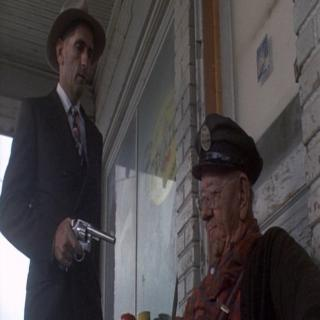gun: (58, 208, 116, 278)
